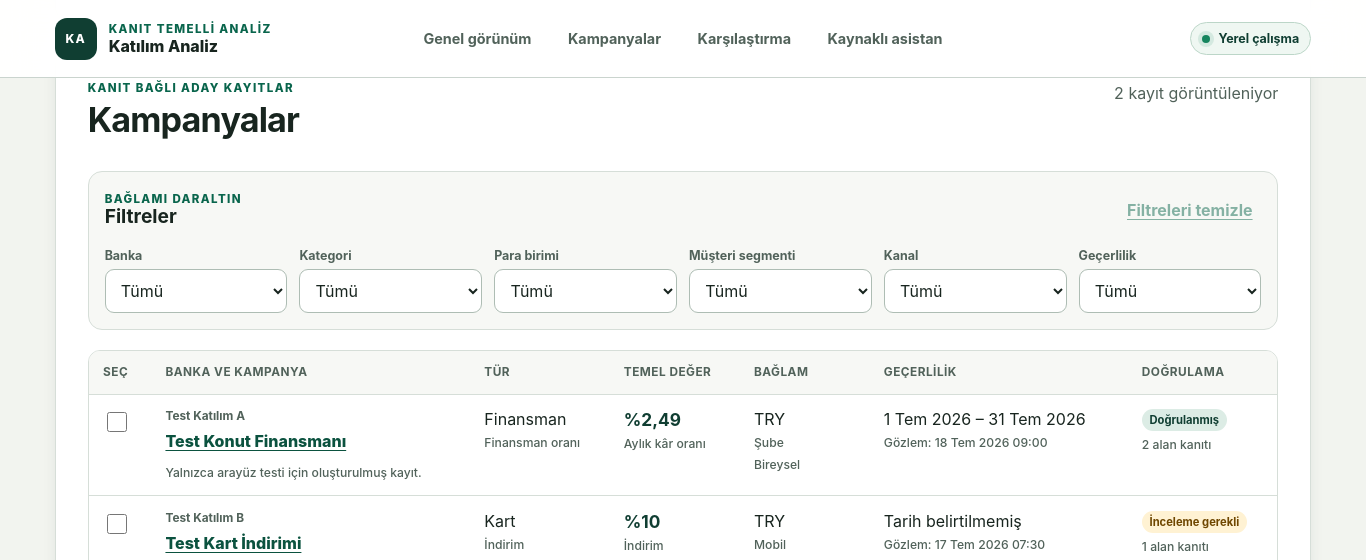
V1 dashboard › polls duplicate-safely and refreshes active logical campaign IDs
(page scrolled)
Click the button with aria-label "Test Konut Finansmanı ayrıntısını aç": (256, 441) [165, 423, 346, 459]
(page scrolled)
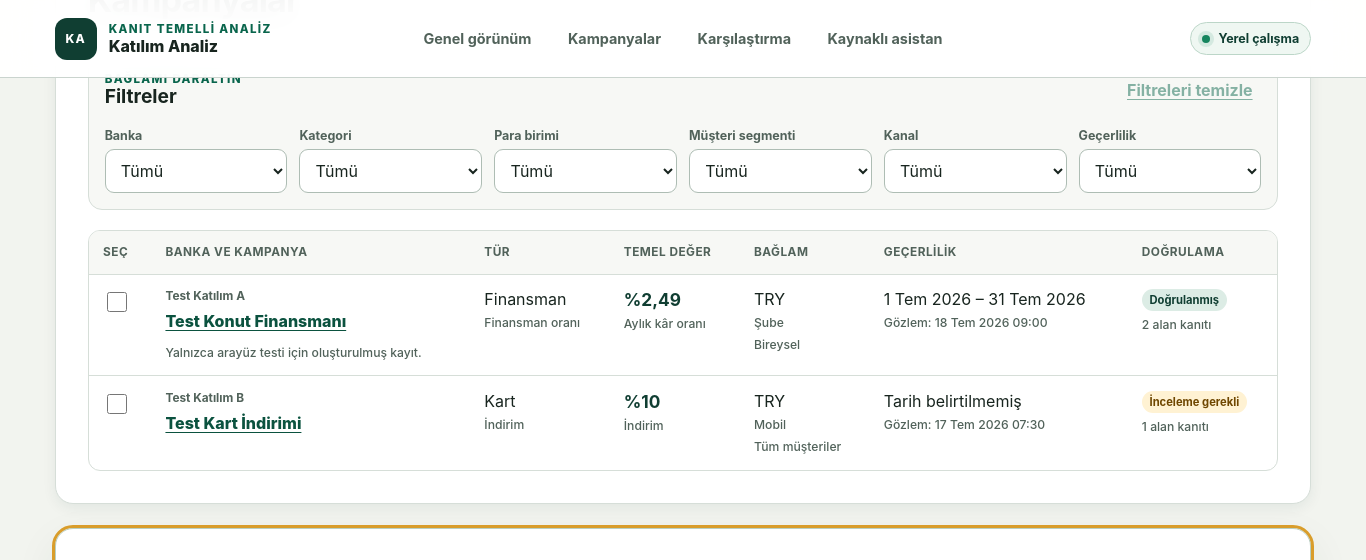
Click the checkbox named "Test Konut Finansmanı karşılaştırma seçimine ekle": (117, 302) [107, 292, 127, 312]
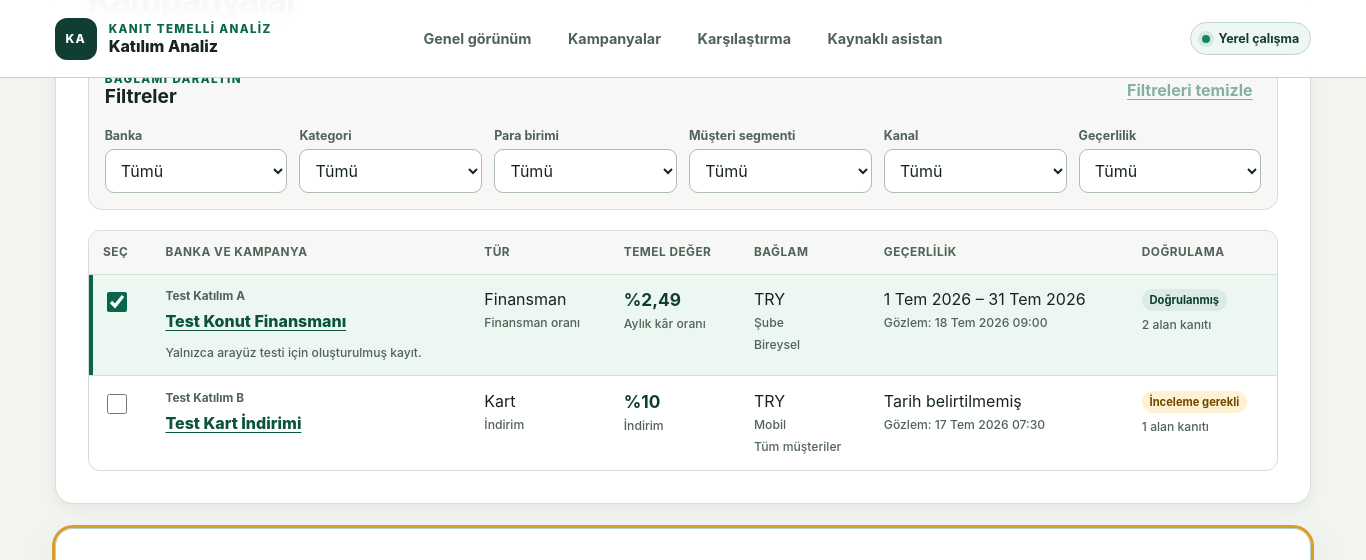
Click the checkbox named "Test Kart İndirimi karşılaştırma seçimine ekle": (117, 404) [107, 394, 127, 414]
(page scrolled)
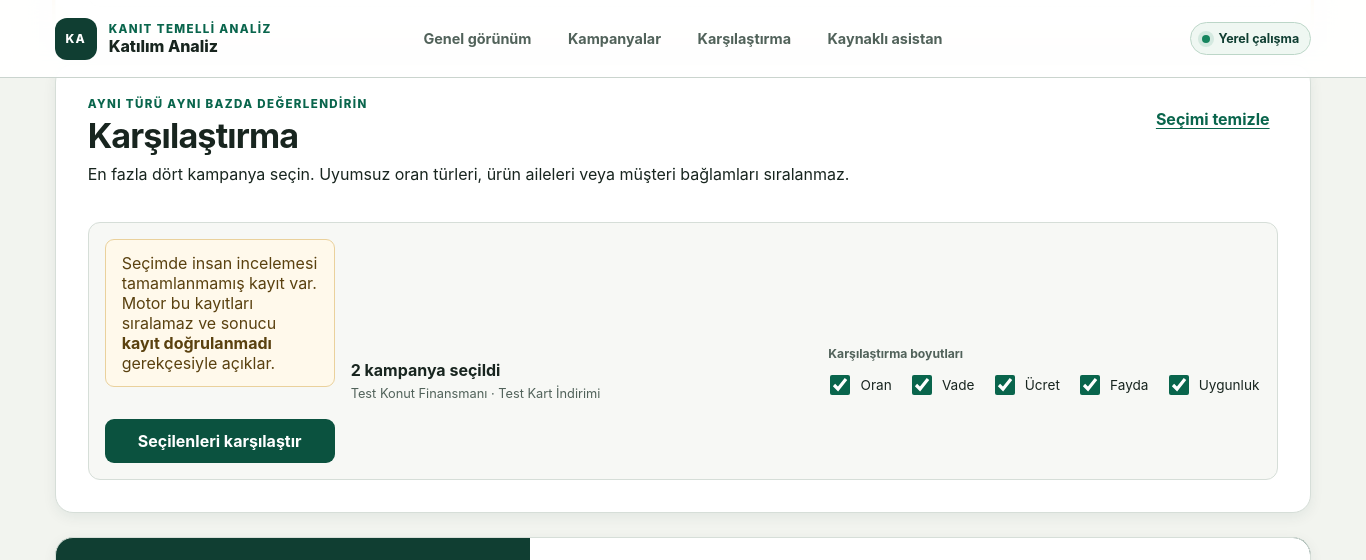
Click the button with aria-label "2 kampanyayı karşılaştır": (220, 441) [105, 419, 335, 463]
Wait 15001 ms
(page scrolled)
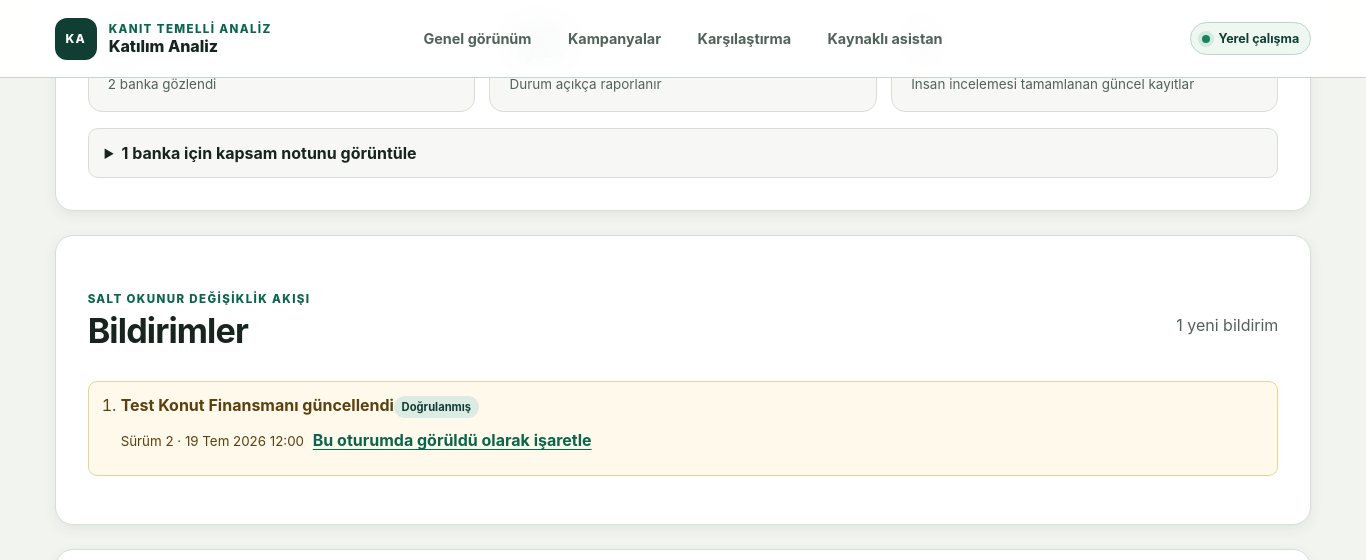
expect the text "Test Konut Finansmanı güncellendi" is shown: met, box [121, 395, 394, 415]
Click the button "Bu oturumda görüldü olarak işaretle": (452, 440) [304, 418, 600, 462]
Wait 15000 ms
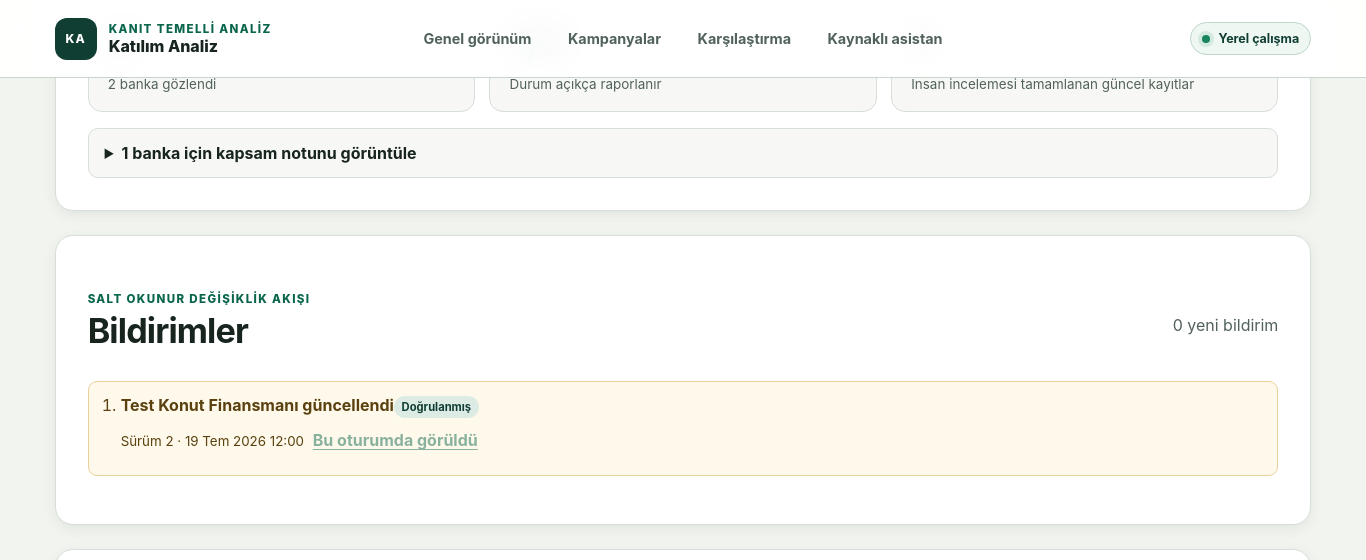
expect the button "Bu oturumda görüldü" is disabled: met, box [304, 418, 487, 462]
expect the text "Test Konut Finansmanı güncellendi" is shown once: met, box [121, 395, 394, 415]
